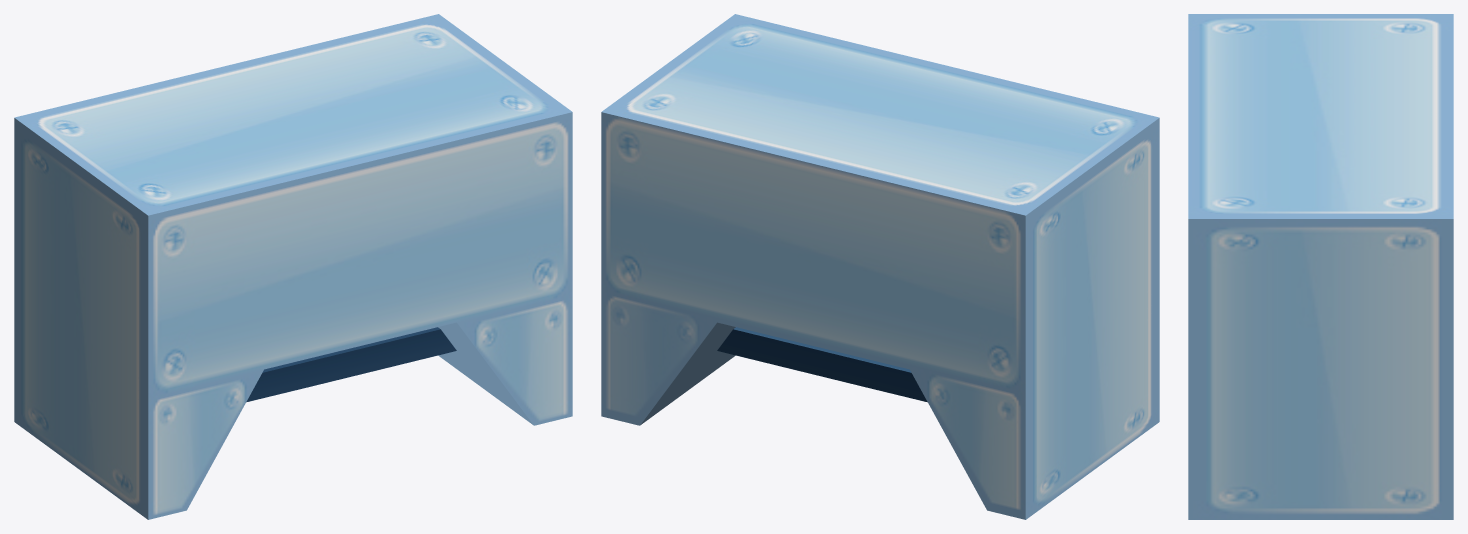
The model's file is floatyPlatform4.FBX.
The picture shows the model from 3 angles, left to right: view 1: azimuth 30°, elevation 25°; view 2: azimuth 150°, elevation 25°; view 3: azimuth 270°, elevation 25°; orthographic projection.
Parts seen in each view (by area): view 1: floatyplatform4; view 2: floatyplatform4; view 3: floatyplatform4.
Boxes of the visible parts, box(x1,y1,x2,y2) form: floatyplatform4: box(14, 14, 572, 519); floatyplatform4: box(601, 14, 1159, 519); floatyplatform4: box(1188, 14, 1453, 519).
Bounding box in the file's own units: 72.04 × 49.33 × 39.37.
Materials: 1 (1 with a texture image).
